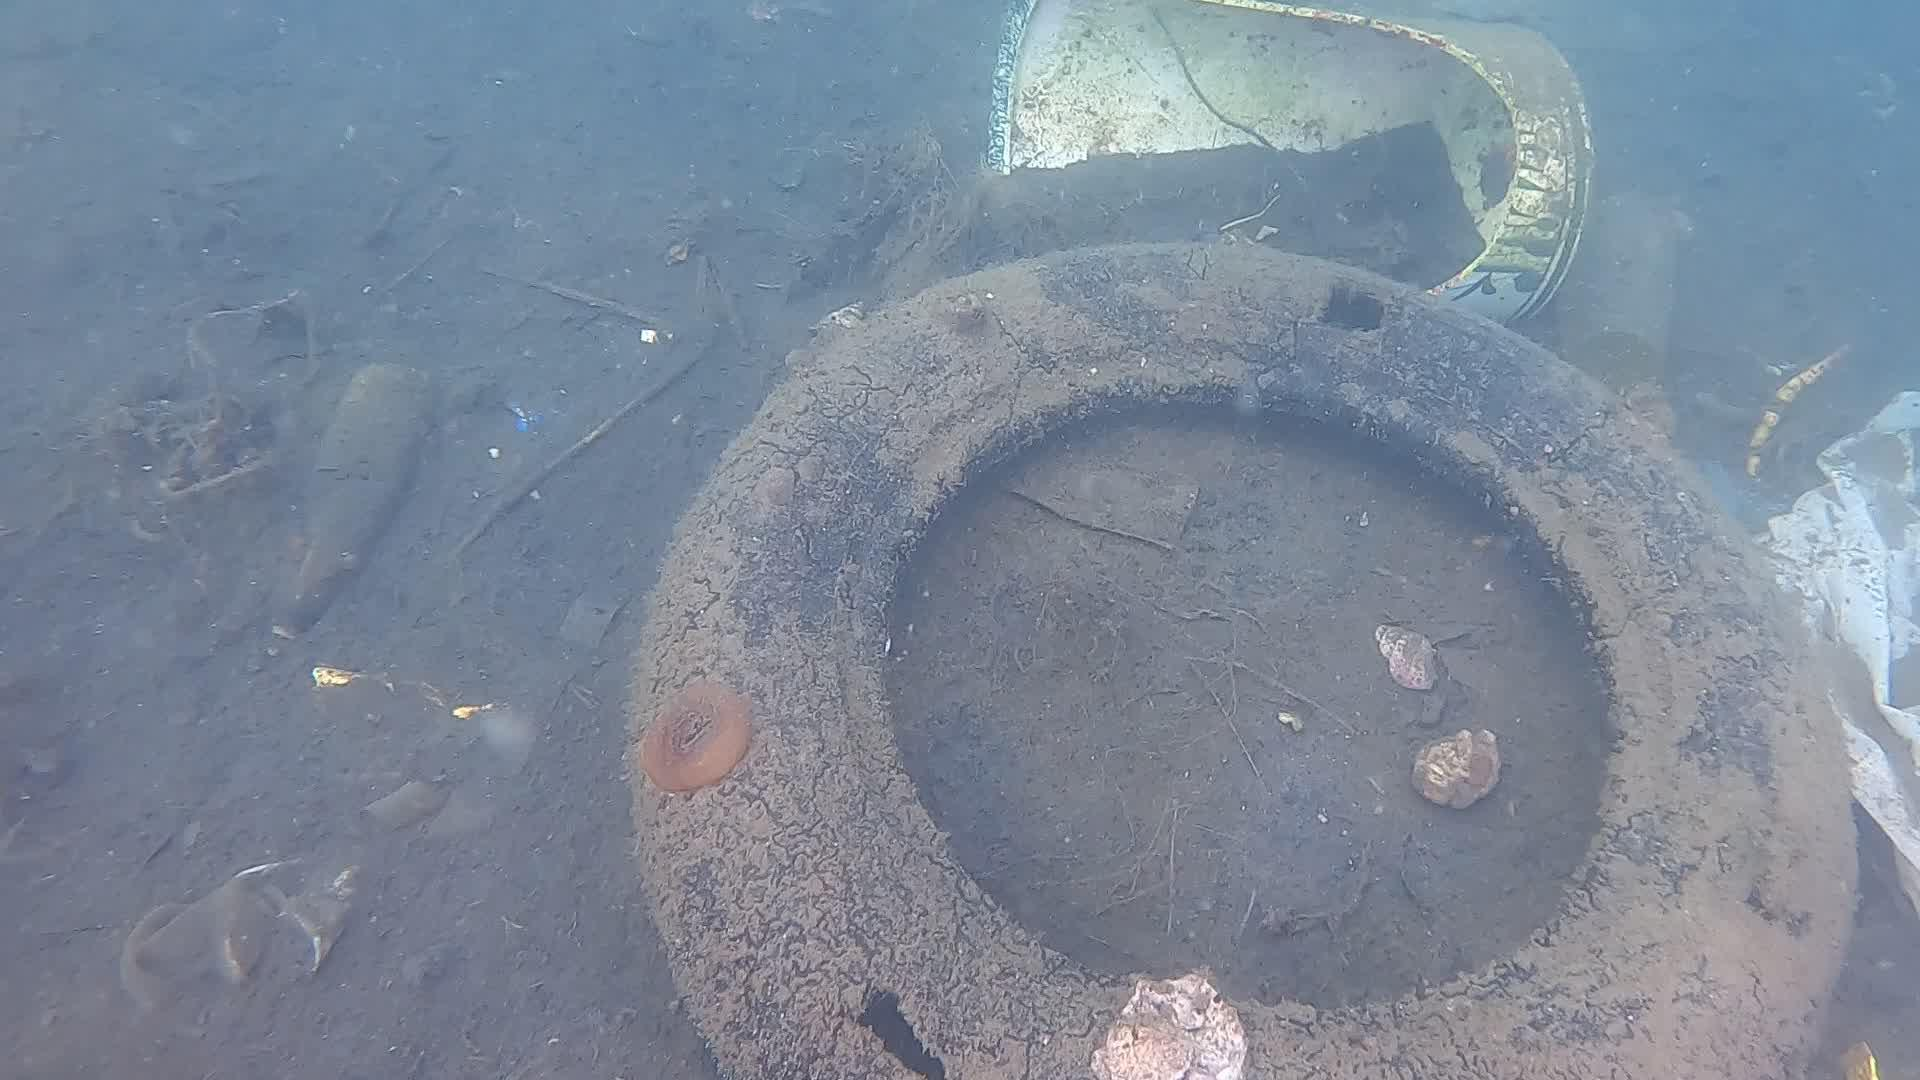tire: (622, 236, 1863, 1080)
